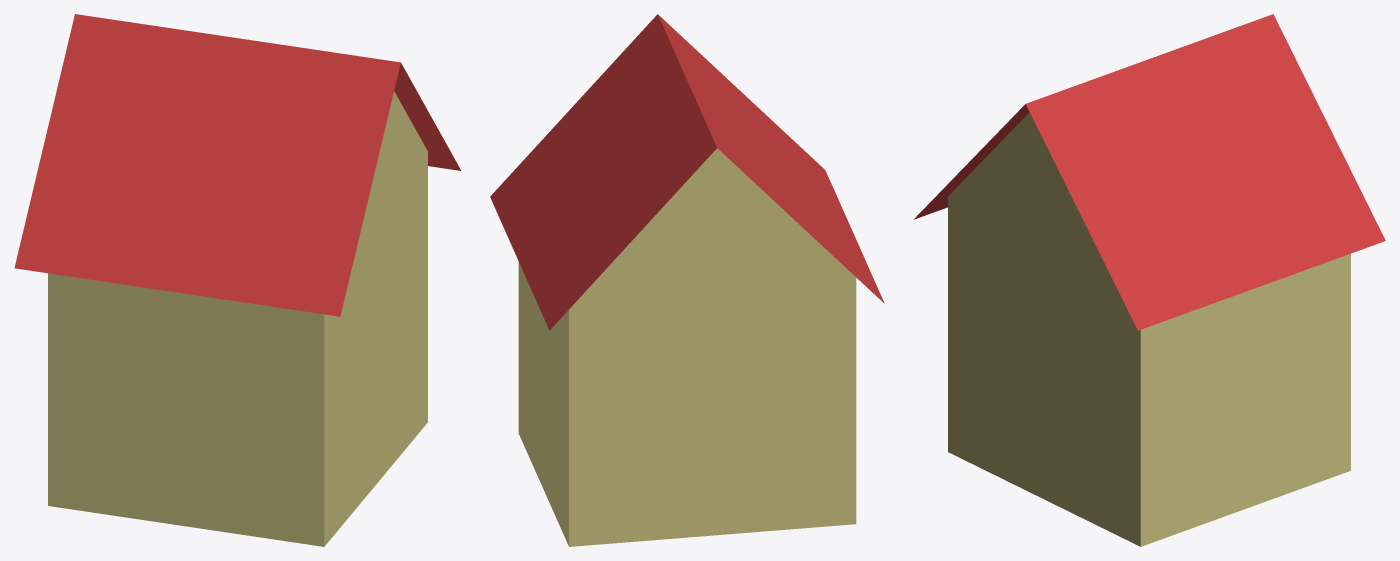
3 views of the same model, side by side, from view 1: azimuth 30°, elevation 25°; view 2: azimuth 150°, elevation 25°; view 3: azimuth 270°, elevation 25° (orthographic). The views are drawn at different scales.
Visible parts, largest first — view 1: group_5, group_3, group_4; view 2: group_5, group_3, group_4; view 3: group_5, group_3, group_4.
Part boxes in pixels (x1,y1,x2,y2): group_5: [48, 91, 427, 546]; group_3: [14, 14, 461, 316]; group_4: [184, 63, 400, 316]; group_5: [518, 148, 856, 546]; group_3: [519, 14, 884, 303]; group_4: [490, 14, 831, 330]; group_5: [948, 46, 1350, 546]; group_3: [913, 21, 1350, 290]; group_4: [916, 14, 1385, 330].
Bounding box in the file's own units: 14.35 × 14.29 × 13.42.
